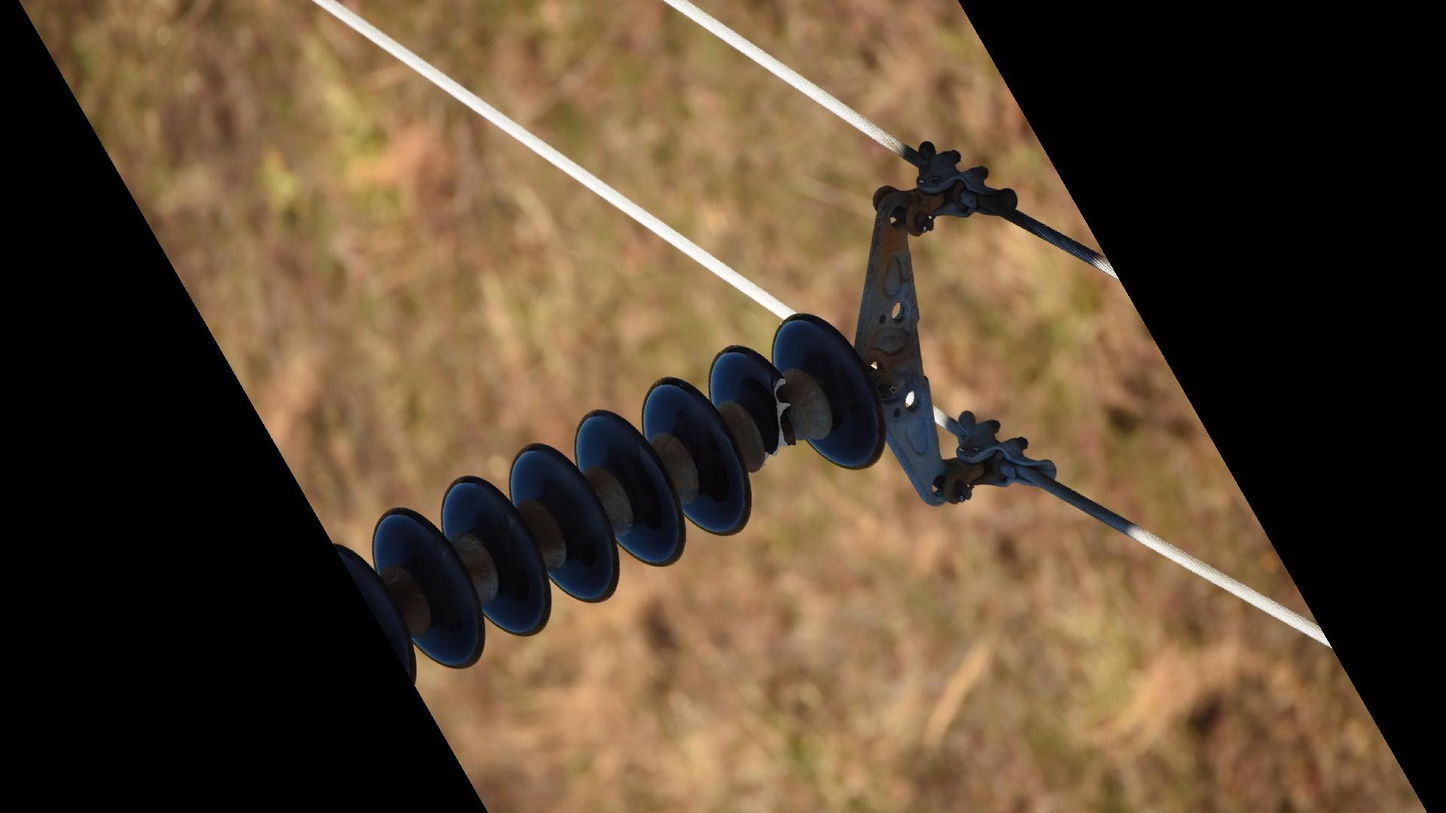insulator: (325, 309, 898, 692)
insulator_breakage: (760, 370, 798, 460)
